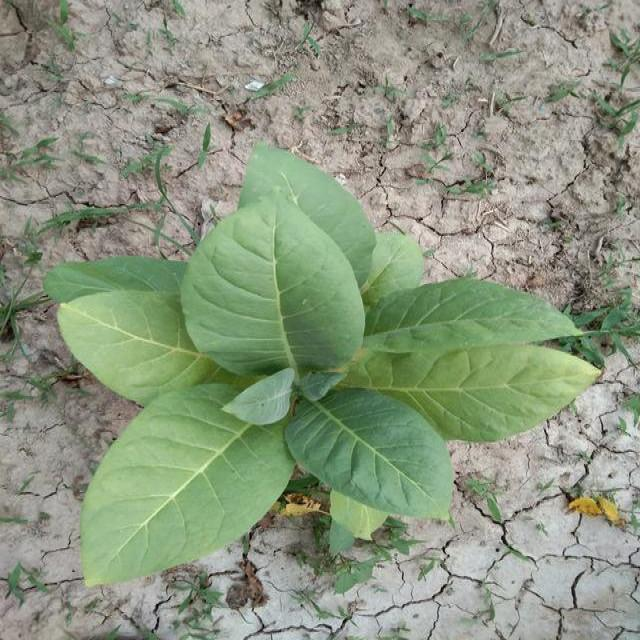crop: (39, 148, 594, 589)
